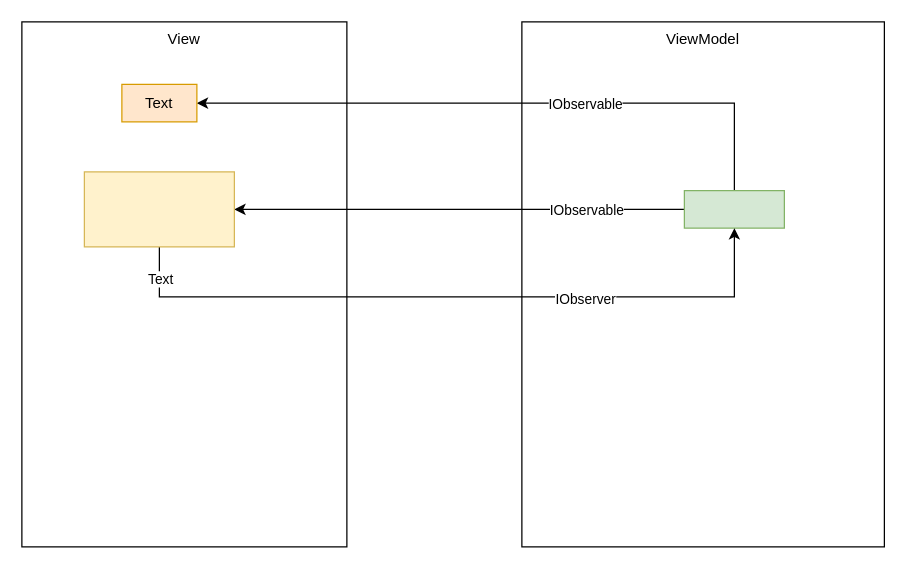
The diagram is 906 pixels wide and 569 high, and some of its shapes have lost their labels. Here are the shapes that lost their labels. From the top down, the centre of each, then its label:
At [158,209]: "TextBox".
At [733,208]: "MyProperty".
